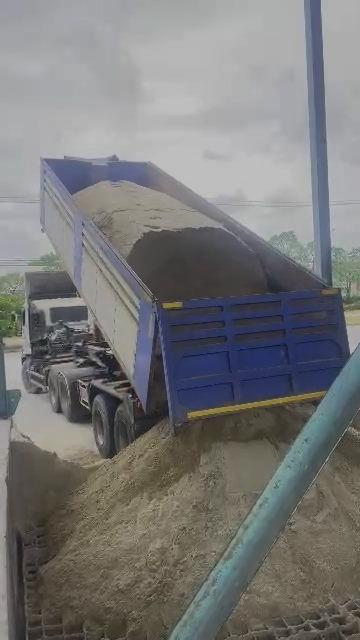sand: (42, 340, 303, 639), (220, 407, 360, 637), (74, 181, 268, 300), (9, 429, 89, 532)
